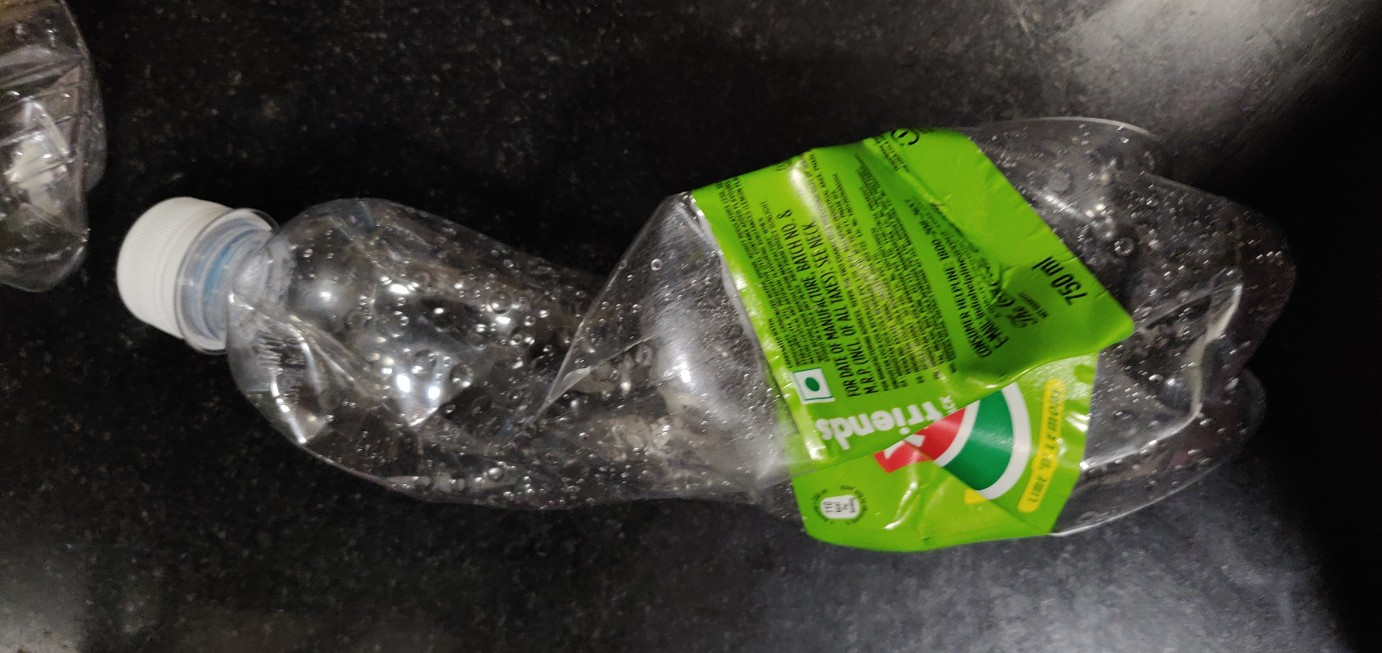Electronics: (81, 80, 1319, 587)
